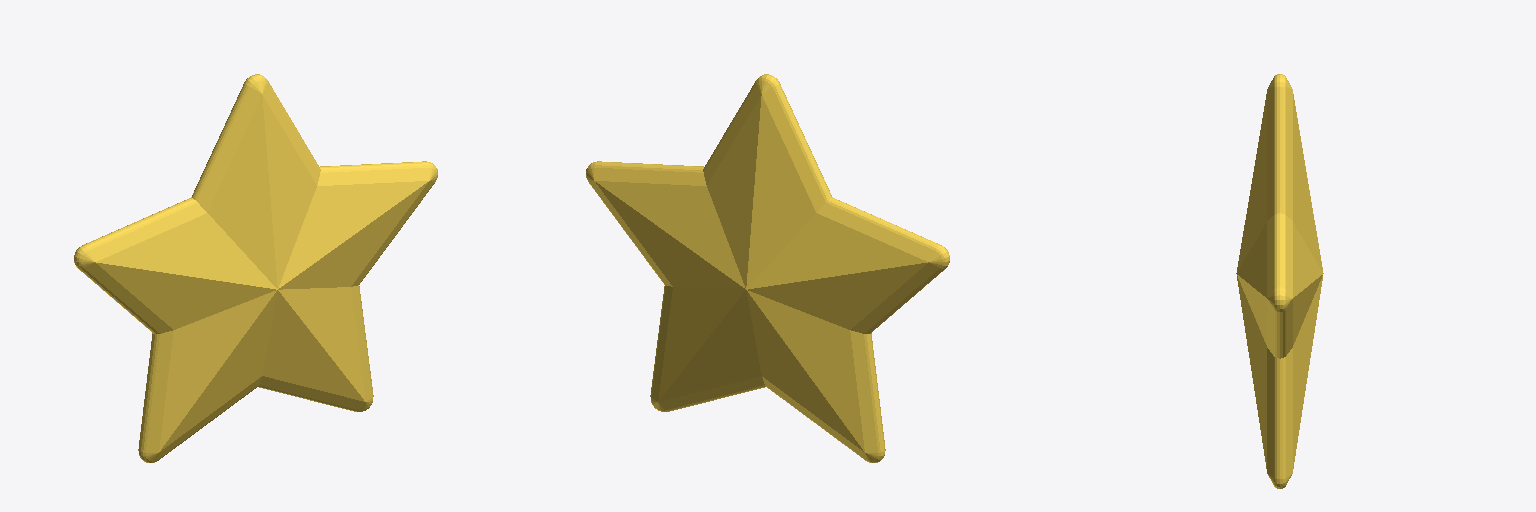
Rendered from Prop_Star.obj.
3 views of the same model, side by side, from view 1: azimuth 30°, elevation 25°; view 2: azimuth 150°, elevation 25°; view 3: azimuth 270°, elevation 25° (orthographic).
Parts seen in each view (by area): view 1: Star; view 2: Star; view 3: Star.
Part boxes in pixels (left/top/right/bottom): Star: left=74, top=74, right=437, bottom=462; Star: left=586, top=74, right=949, bottom=462; Star: left=1236, top=74, right=1323, bottom=488.
Bounding box in the file's own units: 0.7207 × 0.6878 × 0.15.